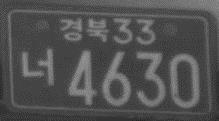0: (170, 52, 200, 109)
3: (135, 51, 166, 107), (112, 17, 133, 44), (136, 18, 157, 45)
4: (67, 50, 97, 105)
6: (101, 51, 131, 106)
경북_O: (59, 16, 108, 42)
너: (21, 48, 55, 88)
